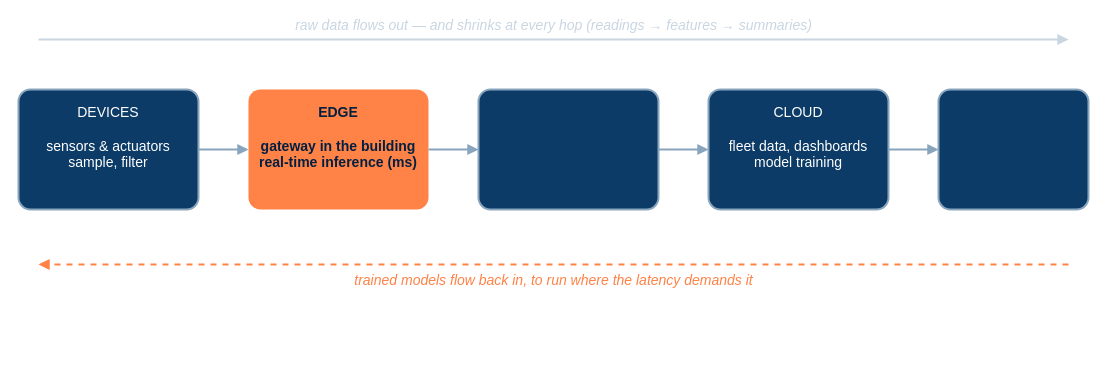
Image size: 1106x387. Some labels were removed from this diagram. Each missing label, with the centre of its shape:
FOG local server / on-prem aggregate, pre-process: point 568,149
HPC large-scale training heavy simulation: point 1013,149
